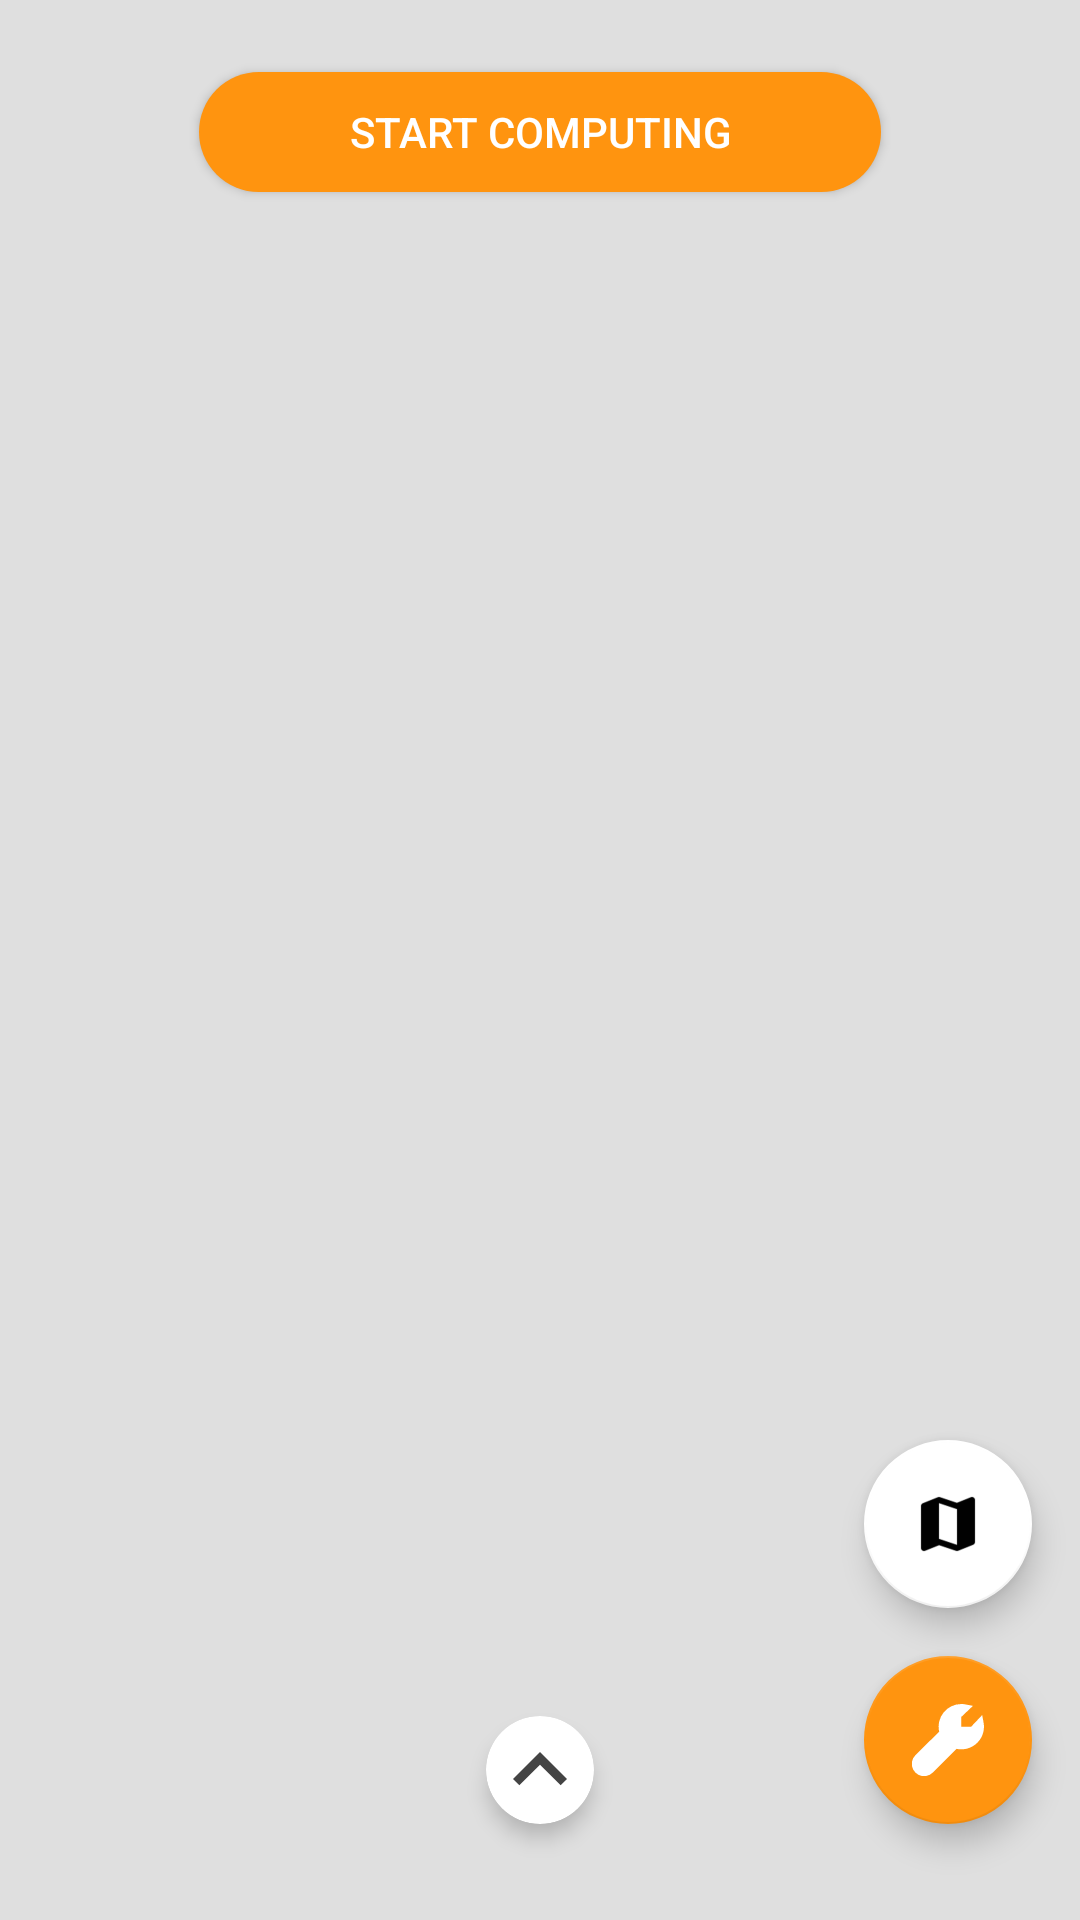

Icon click points for this 1080px×1920px phone screenshot, format point (x, y):
arrow up: point (540, 1770)
map terrain: point (948, 1524)
